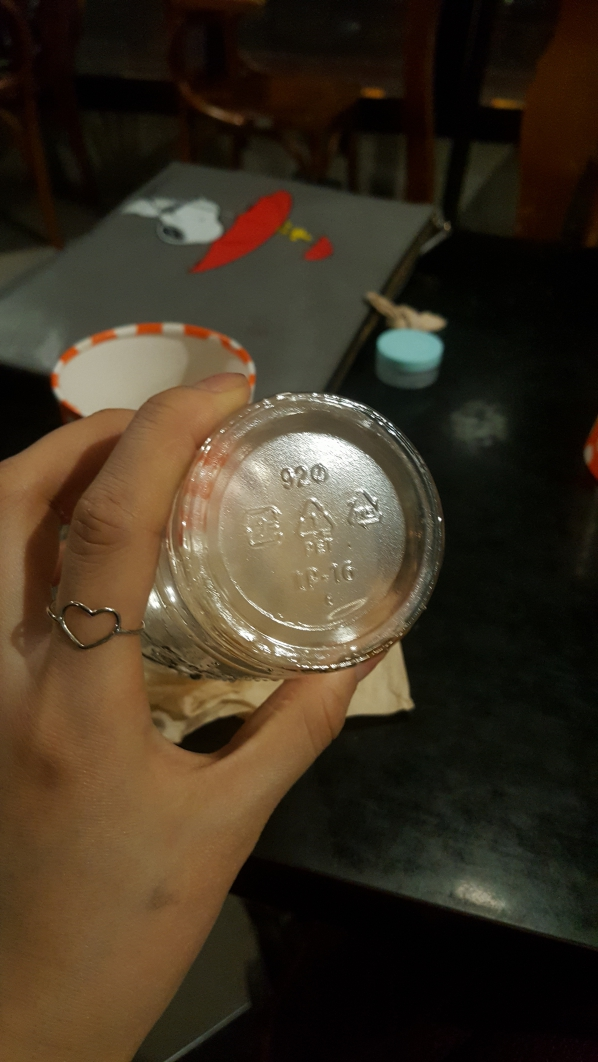recycle: (292, 498, 344, 556)
